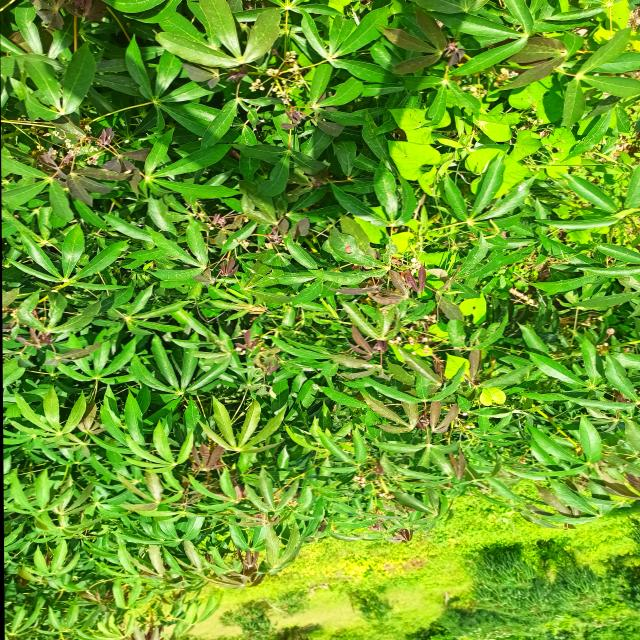Maleza: (476, 109, 568, 171), (390, 107, 455, 187), (472, 385, 507, 409), (459, 297, 490, 321), (445, 348, 467, 375)
Mosaico: (351, 272, 434, 302), (182, 439, 227, 479)
Mosca: (332, 239, 359, 253)
